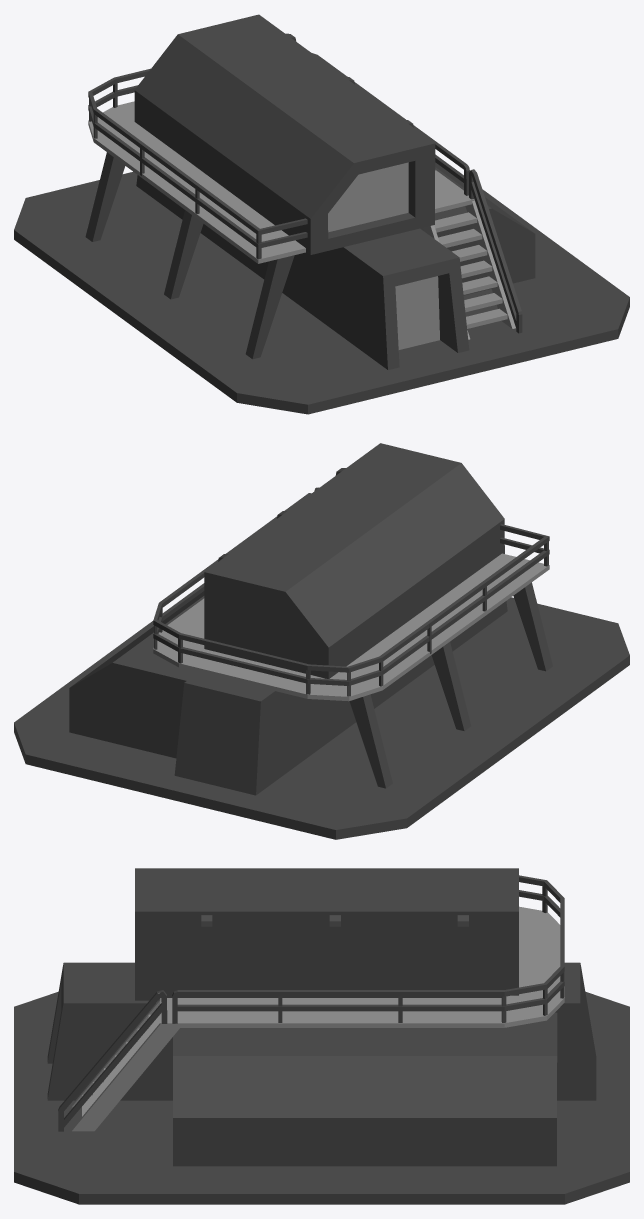
Rendered from Barracks.glb.
The picture shows the model from 3 angles, top to bottom: view 1: azimuth 30°, elevation 25°; view 2: azimuth 150°, elevation 25°; view 3: azimuth 270°, elevation 25°; orthographic projection. The views are drawn at different scales.
Parts seen in each view (by area): view 1: Cube.002; view 2: Cube.002; view 3: Cube.002.
Boxes of the visible parts, x1=… form: Cube.002: x1=14, y1=14, x2=629, y2=414; Cube.002: x1=14, y1=443, x2=629, y2=839; Cube.002: x1=14, y1=868, x2=629, y2=1204.
Size of the model in its own units: 10.1 by 4.57 by 12.57.
Materials: 1 (1 with a texture image).
